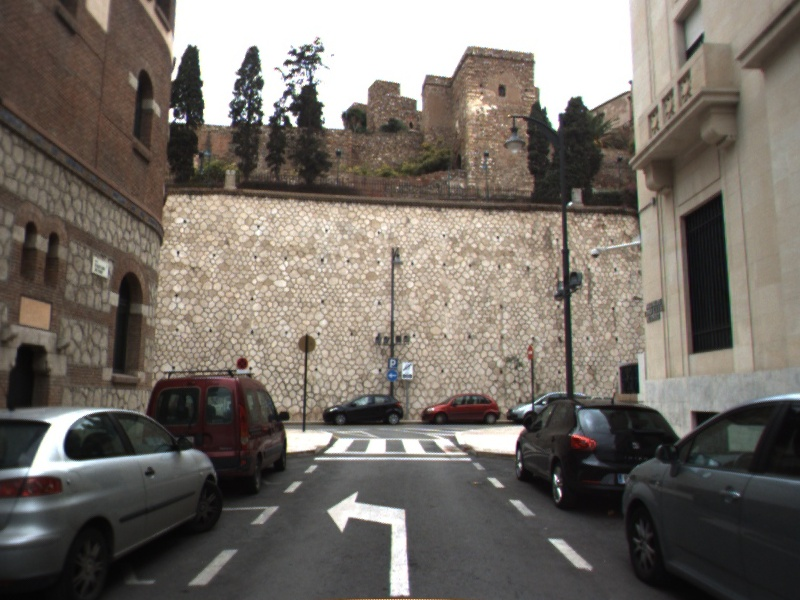LEFT: (323, 488, 413, 598)
